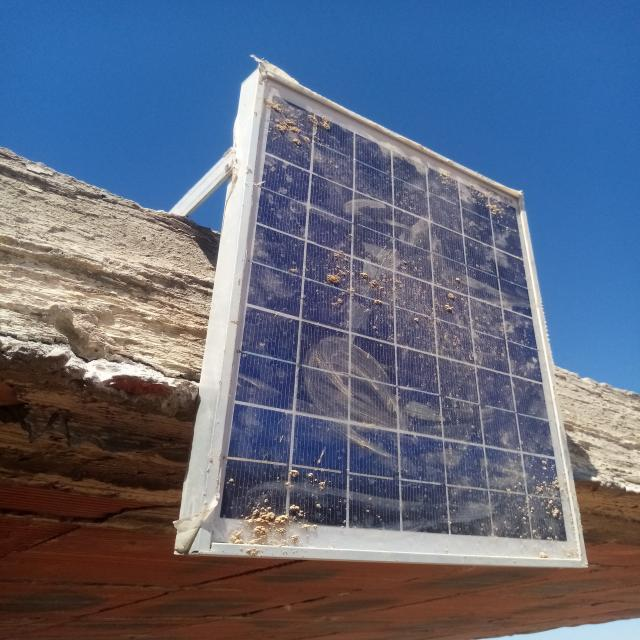faulty: (195, 75, 593, 566)
